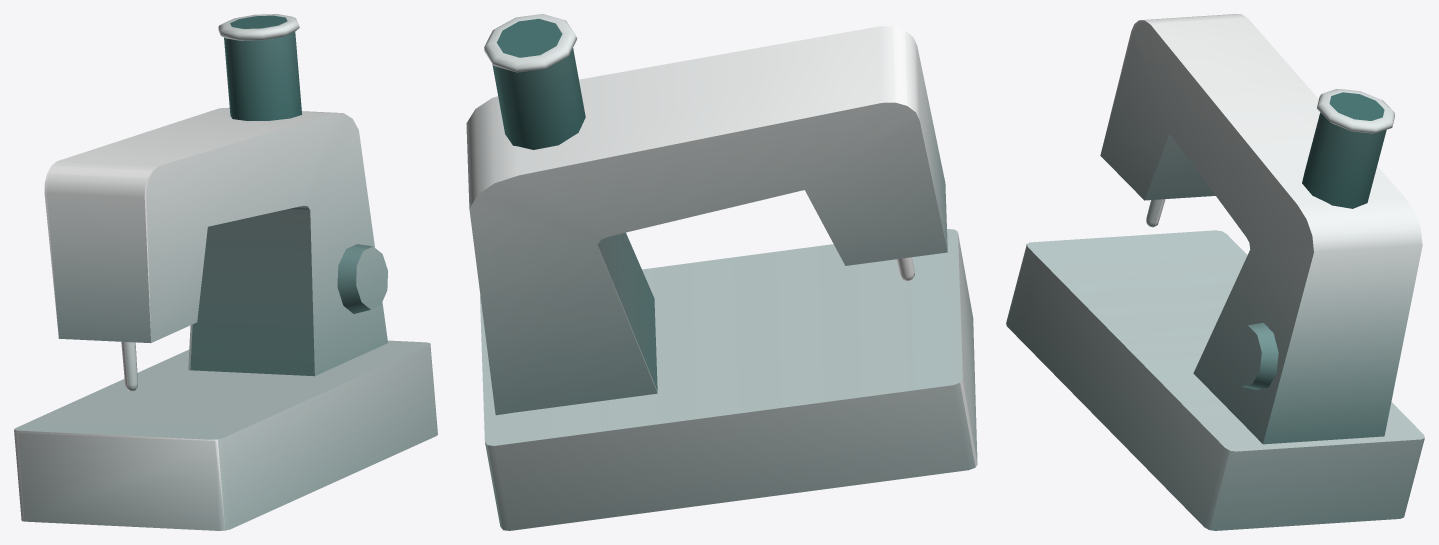
File: Diligence_Tailor.fbx
The picture shows the model from 3 angles, left to right: view 1: azimuth 30°, elevation 25°; view 2: azimuth 150°, elevation 25°; view 3: azimuth 270°, elevation 25°; orthographic projection. The views are drawn at different scales.
Visible parts, largest first — view 1: Diligence_Tailor; view 2: Diligence_Tailor; view 3: Diligence_Tailor.
Boxes of the visible parts, left/top/right/bottom form: Diligence_Tailor: left=14, top=14, right=437, bottom=530; Diligence_Tailor: left=466, top=14, right=977, bottom=530; Diligence_Tailor: left=1006, top=14, right=1424, bottom=530.
Size of the model in its own units: 19.87 by 19.15 by 17.38.
